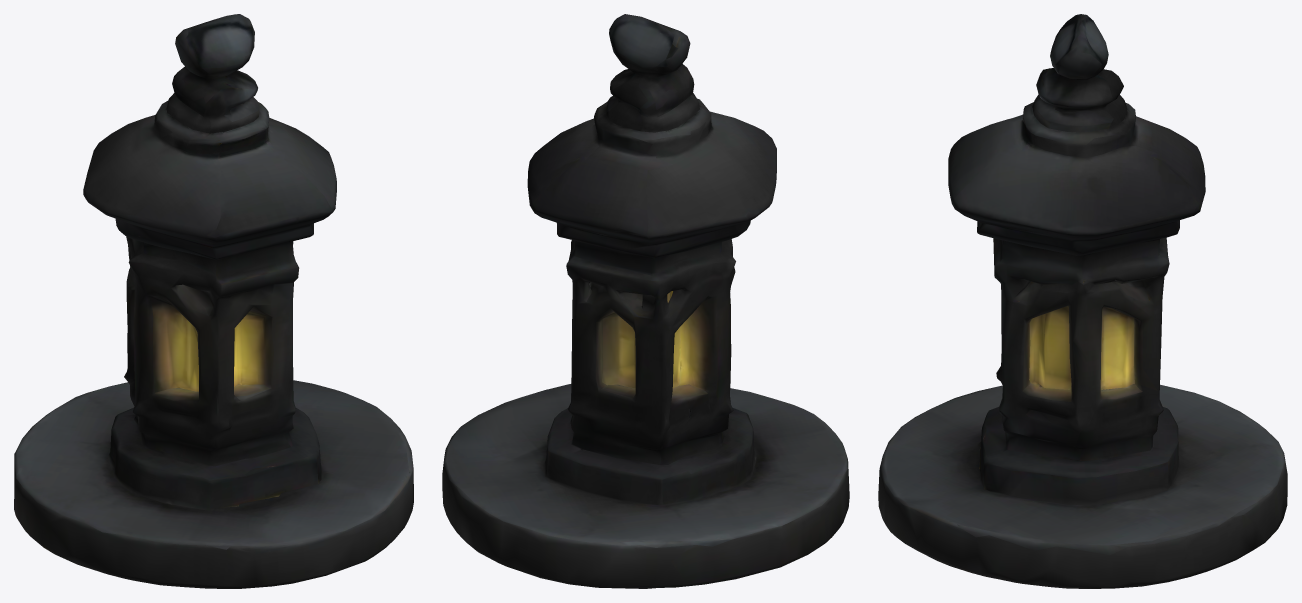
The model's file is Asurastonelantern.glb.
The picture shows the model from 3 angles, left to right: view 1: azimuth 30°, elevation 25°; view 2: azimuth 150°, elevation 25°; view 3: azimuth 270°, elevation 25°; orthographic projection.
Parts seen in each view (by area): view 1: geometry_0; view 2: geometry_0; view 3: geometry_0.
Boxes of the visible parts, box(x1,y1,x2,y2) form: geometry_0: box(14, 14, 413, 588); geometry_0: box(442, 14, 849, 588); geometry_0: box(878, 14, 1287, 588).
Bounding box in the file's own units: 0.756 × 1 × 0.762.
1 material, 1 textured.
